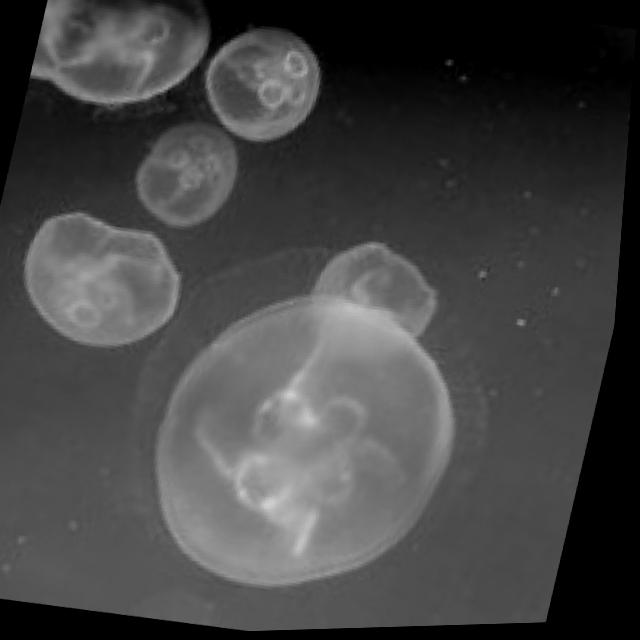Box-jellyfish: (191, 15, 333, 151)
Jellyfish: (6, 199, 202, 360), (124, 110, 249, 237)
